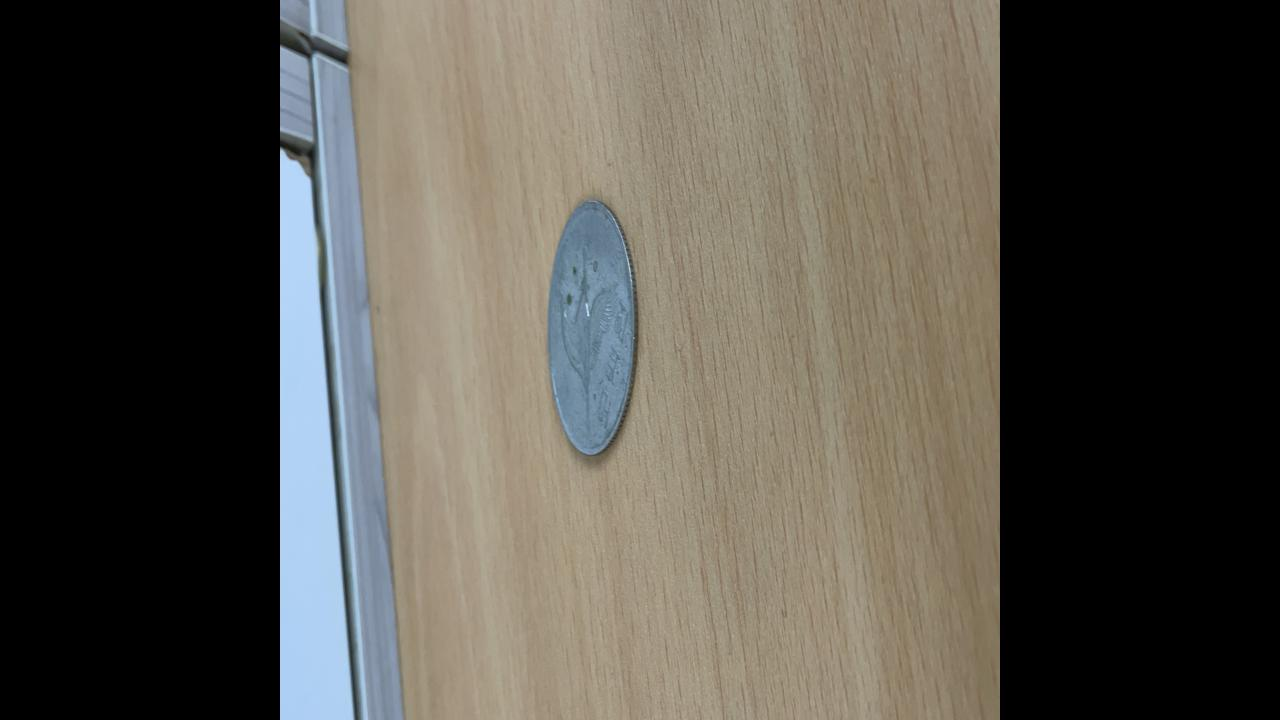coin: (546, 194, 638, 462)
